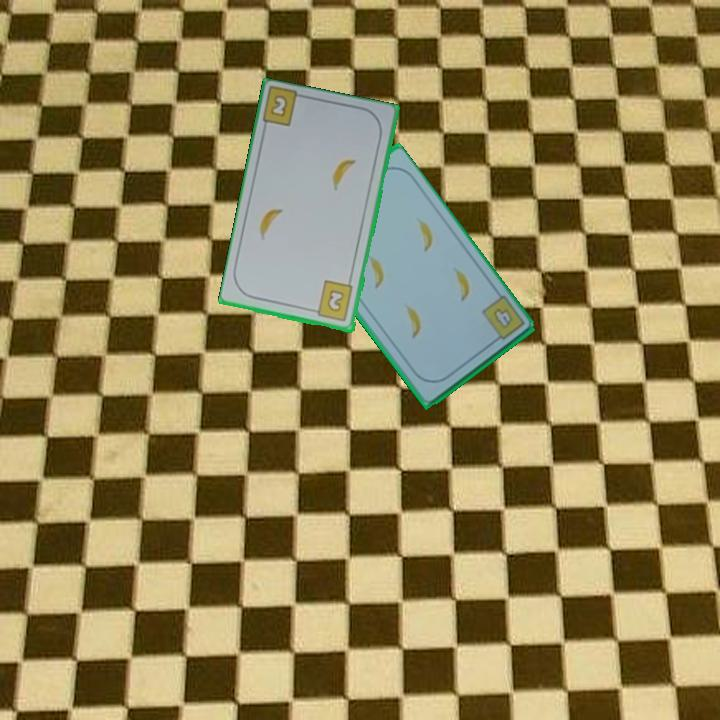2b: (308, 278, 356, 324), (267, 91, 291, 120)
4b: (478, 292, 527, 347)
